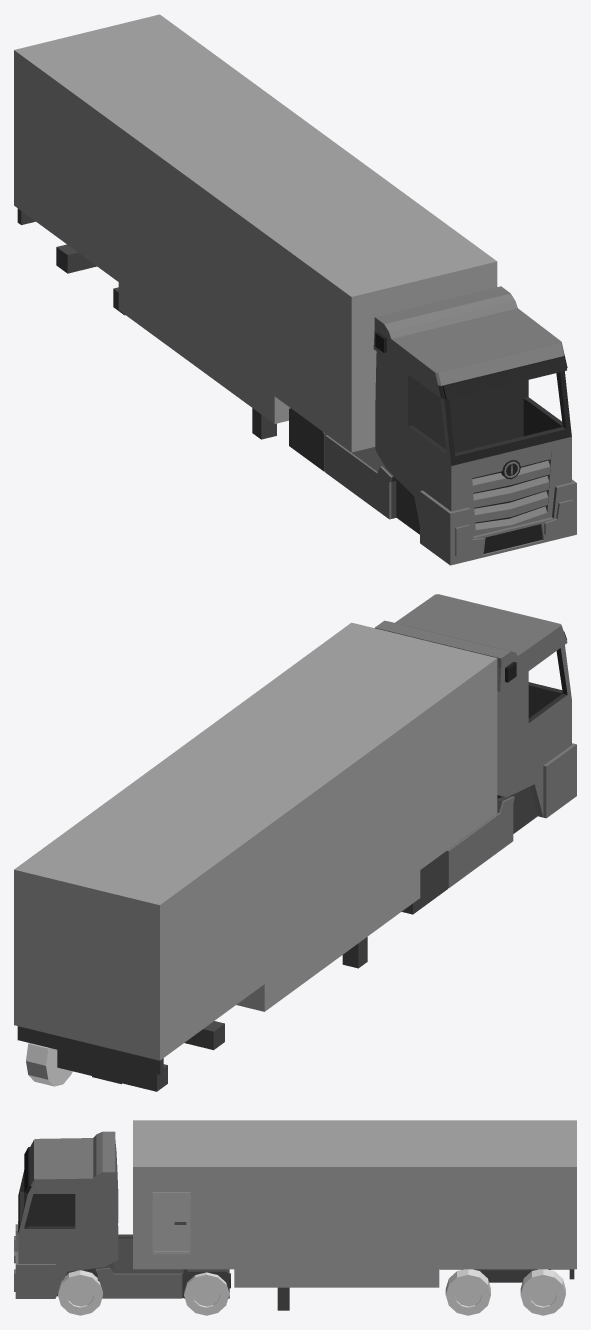
Rendered from Actros_trailer.fbx.
The picture shows the model from 3 angles, top to bottom: view 1: azimuth 30°, elevation 25°; view 2: azimuth 150°, elevation 25°; view 3: azimuth 270°, elevation 25°; orthographic projection. The views are drawn at different scales.
Parts seen in each view (by area): view 1: Cube.003, Cube; view 2: Cube.003, Cube, Model_0.002; view 3: Cube.003, Cube, Model_0.002, Model_0.003, Model_0.000, Model_0.001.
Boxes of the visible parts, box(x1,y1,x2,y2) form: Cube.003: box(14, 14, 497, 452); Cube: box(289, 286, 576, 565); Cube.003: box(14, 622, 497, 1091); Cube: box(375, 594, 576, 914); Model_0.002: box(26, 1043, 72, 1086); Cube.003: box(133, 1120, 576, 1303); Cube: box(14, 1131, 230, 1298); Model_0.002: box(520, 1269, 565, 1315); Model_0.003: box(445, 1269, 490, 1315); Model_0.000: box(58, 1270, 102, 1315); Model_0.001: box(184, 1272, 229, 1315).
Size of the model in its own units: 299 by 442 by 1505.
